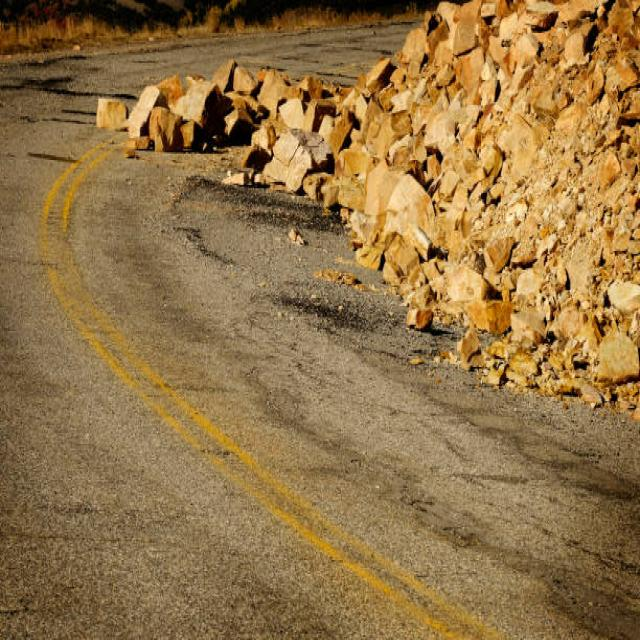landSliding: (104, 4, 616, 407)
